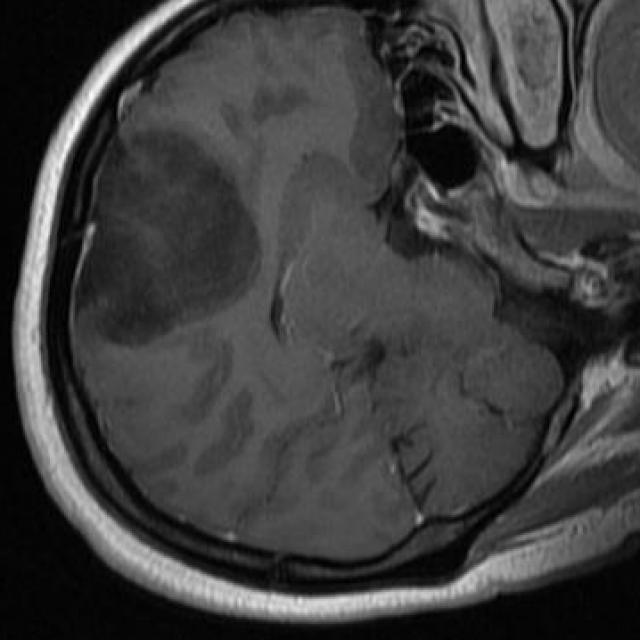glioma: (77, 119, 260, 348)
